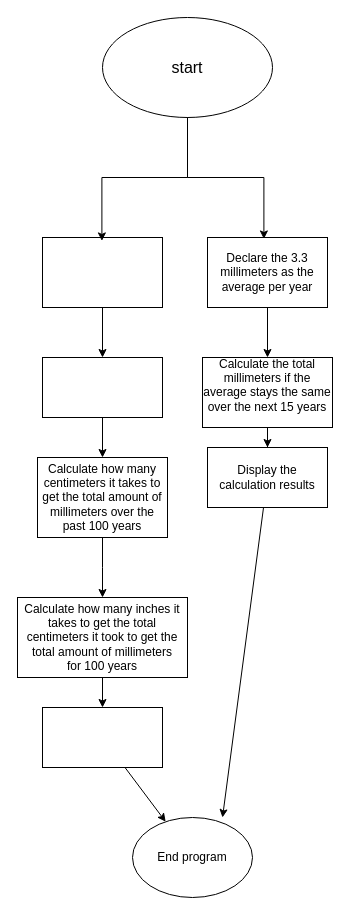
This 350x915 diagram has some shape labels left out. Here are the shapes that lost their labels. From the top down, the centre of each, then its label:
the point at 102,272: Declare 1.8 millimeters as the average for the past 100 years
the point at 102,387: Calculate the total amount of millimeters over a 100 year span
the point at 102,737: Display the calculation results for centimeters and inches
